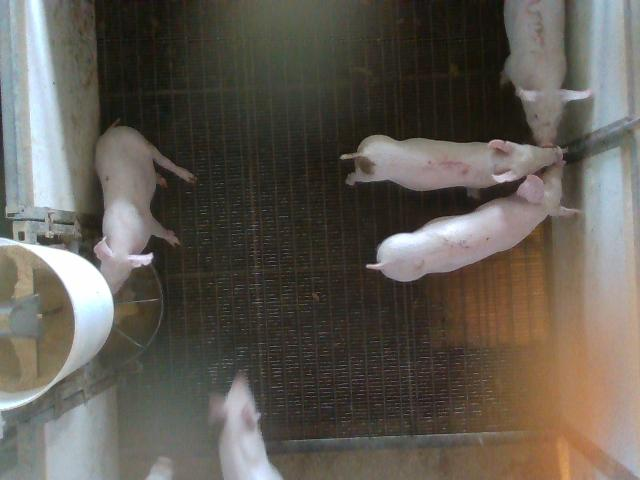pig-3: (504, 0, 591, 146)
pig-5: (341, 135, 560, 191)
